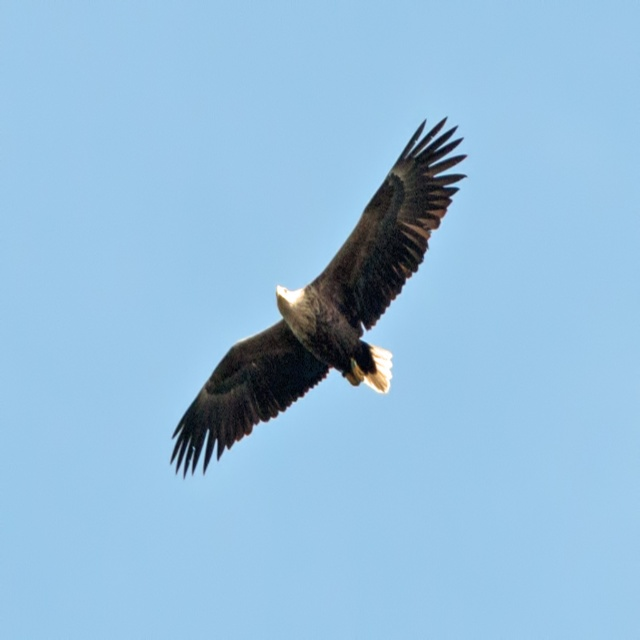Eagle: (172, 116, 467, 478)
